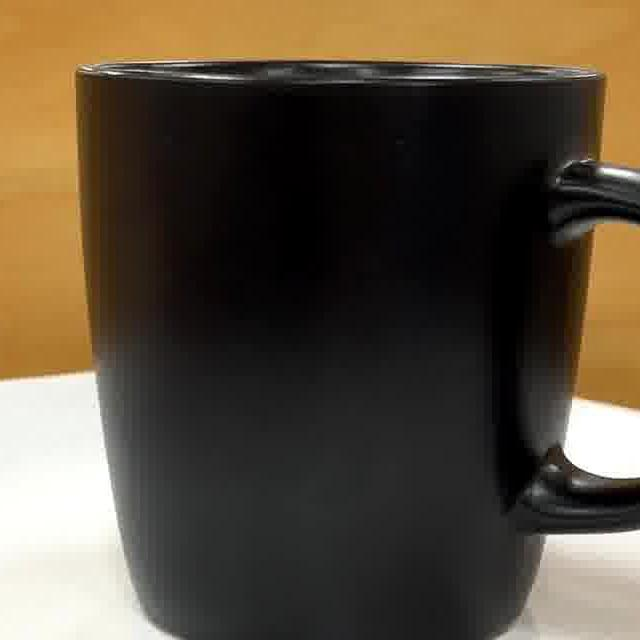cup: (81, 61, 640, 640)
